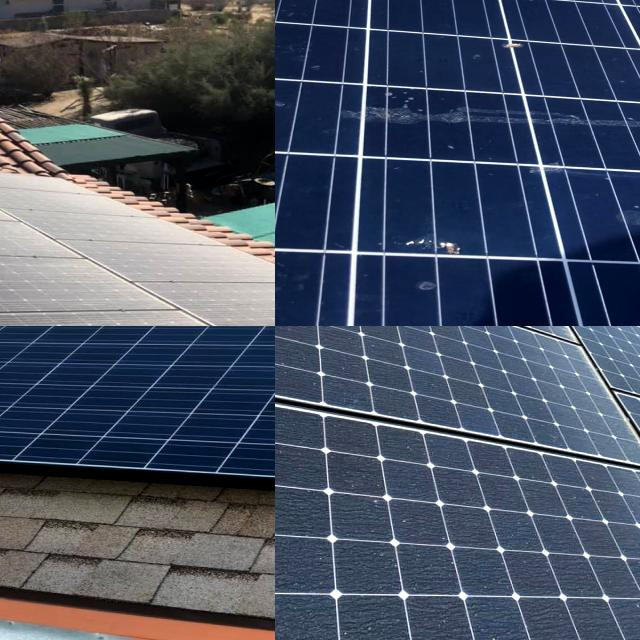bird: (350, 215, 532, 311)
crack: (0, 326, 275, 583), (0, 326, 249, 422), (126, 326, 275, 464), (0, 326, 183, 404)
dust: (275, 413, 484, 640), (514, 474, 640, 640), (275, 326, 460, 404), (466, 326, 611, 402), (500, 357, 628, 442), (275, 326, 460, 377), (0, 249, 155, 301), (0, 206, 108, 246), (0, 153, 77, 190), (204, 282, 275, 311)
